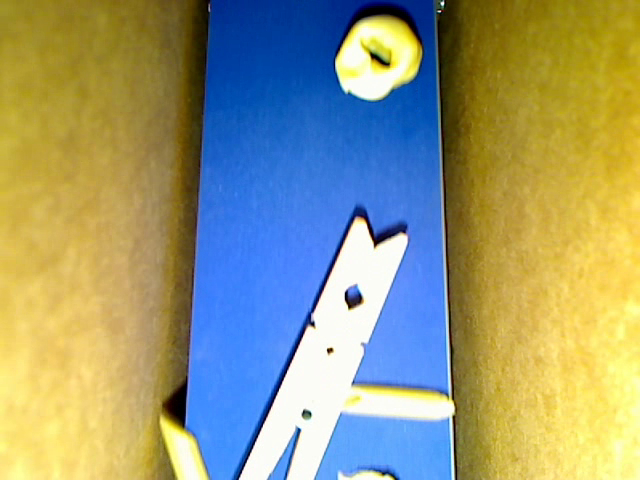penne: (340, 384, 455, 421), (158, 414, 210, 479)
tortellini: (335, 14, 422, 101)
